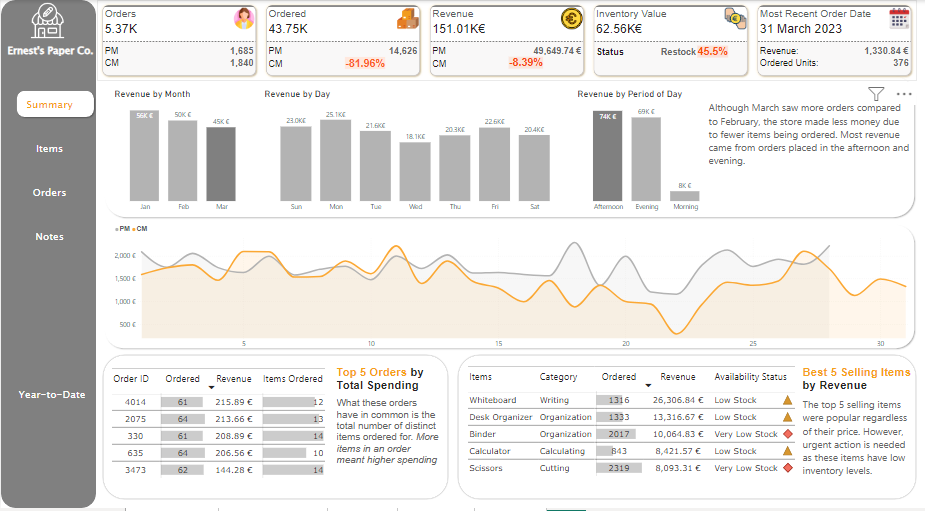

The page's visual inventory and layout, read from the dashboard file:
{"tool":"powerbi","page":{"name":"Summary","canvas":[3000,1650],"ordinal":0},"visuals":[{"type":"image","box":[78,0,146.2,133.2],"z":0,"group":"g2"},{"type":"group","id":"g1","title":"Group 2","box":[328.1,237.1,2647.1,1387.7],"z":0},{"type":"shape","box":[1481.2,1150.6,1494.1,474.2],"z":0,"group":"g1"},{"type":"shape","box":[0,0,308.6,1650],"z":1000},{"type":"textbox","box":[16.3,136.4,298.8,100.7],"z":1000,"group":"g2"},{"type":"shape","box":[328.1,1150.6,1127.1,474.2],"z":1000,"group":"g1"},{"type":"shape","box":[41.4,286.4,268.7,103.3],"z":2000,"group":"g3"},{"type":"shape","box":[328.1,721.1,2647.1,419],"z":2000,"group":"g1"},{"type":"cardVisual","fields":{"Data":["Measures (2).Orders","Measures (2).Ordered","Measures (2).Revenue","Measures (2).Inventory Value","Max(public order_details.order_date)"]},"box":[311.8,0,2663.4,263.1],"z":3000},{"type":"shape","box":[328.1,237.1,2647.1,477.5],"z":3000,"group":"g1"},{"type":"columnChart","title":"Revenue by Month","fields":{"Category":["CalenderDim.MonthName"],"Y":["Measures (2).Revenue"]},"box":[363.8,285.8,458,409.3],"z":4000},{"type":"tableEx","fields":{"Values":["public order_details.order_id","Measures (2).Ordered","Measures (2).Revenue","CountNonNull(public order_details.order_id)"]},"box":[344.3,1182.3,724.3,412.5],"z":5000},{"type":"tableEx","fields":{"Values":["public items.item","public items.category","Sum(inventory level.quantity_ordered)","Sum(inventory level.Revenue)","inventory level.availability_status"]},"box":[1500.6,1175.8,1097.8,432],"z":6000},{"type":"actionButton","box":[14.8,292.3,283.5,97.4],"z":7000,"group":"g3"},{"type":"actionButton","box":[14.8,435,283.5,97.4],"z":8000,"group":"g3"},{"type":"actionButton","box":[14.8,577.8,283.5,97.4],"z":9000,"group":"g3"},{"type":"actionButton","box":[14.8,720.5,283.5,97.4],"z":10000,"group":"g3"},{"type":"areaChart","title":"March VS February by Day","fields":{"Y":["Measures (2).Previous Month Rev","Measures (2).Current Month Rev"],"Category":["CalenderDim.Date.Variation.Date Hierarchy.Day"]},"box":[363.8,721.1,2591.9,419],"z":11000},{"type":"columnChart","title":"Revenue by Period of Day","fields":{"Category":["public order_details.period_of_day"],"Y":["Measures (2).Revenue"]},"box":[1867.6,285.8,461.2,409.3],"z":12000},{"type":"columnChart","title":"Revenue by Day","fields":{"Y":["Measures (2).Revenue"],"Category":["CalenderDim.DayName"]},"box":[851,285.8,990.6,409.3],"z":13000},{"type":"actionButton","box":[32.5,1247.2,266.3,68.2],"z":14000,"group":"g3"},{"type":"textbox","box":[2598.4,1182.3,363.8,441.7],"z":16000},{"type":"textbox","box":[1084.8,1182.3,344.3,412.5],"z":17000},{"type":"textbox","box":[2293.1,321.6,662.6,269.6],"z":18000},{"type":"group","id":"g2","title":"Group 1","box":[16.3,0,298.8,237.1],"z":19000,"group":"g3"},{"type":"group","id":"g3","title":"Group 3","box":[14.8,0,300.3,1315.5],"z":19001}]}

Visuals, with their boxes on the page's 3000x1650 design canvas (x1, y1, x2, y2). These are canvas units, not pixel positions in the 925x511 screenshot, which may show the page scaled, cropped or inside an application window:
image: l=78, t=0, r=224, b=133
"Group 2" group: l=328, t=237, r=2975, b=1625
shape: l=1481, t=1151, r=2975, b=1625
shape: l=0, t=0, r=309, b=1650
textbox: l=16, t=136, r=315, b=237
shape: l=328, t=1151, r=1455, b=1625
shape: l=41, t=286, r=310, b=390
shape: l=328, t=721, r=2975, b=1140
cardVisual - Measures (2).Orders x Measures (2).Ordered: l=312, t=0, r=2975, b=263
shape: l=328, t=237, r=2975, b=715
"Revenue by Month" columnChart: l=364, t=286, r=822, b=695
tableEx - public order_details.order_id x Measures (2).Ordered: l=344, t=1182, r=1069, b=1595
tableEx - public items.item x public items.category: l=1501, t=1176, r=2598, b=1608
actionButton: l=15, t=292, r=298, b=390
actionButton: l=15, t=435, r=298, b=532
actionButton: l=15, t=578, r=298, b=675
actionButton: l=15, t=720, r=298, b=818
"March VS February by Day" areaChart: l=364, t=721, r=2956, b=1140
"Revenue by Period of Day" columnChart: l=1868, t=286, r=2329, b=695
"Revenue by Day" columnChart: l=851, t=286, r=1842, b=695
actionButton: l=32, t=1247, r=299, b=1315
textbox: l=2598, t=1182, r=2962, b=1624
textbox: l=1085, t=1182, r=1429, b=1595
textbox: l=2293, t=322, r=2956, b=591
"Group 1" group: l=16, t=0, r=315, b=237
"Group 3" group: l=15, t=0, r=315, b=1316
